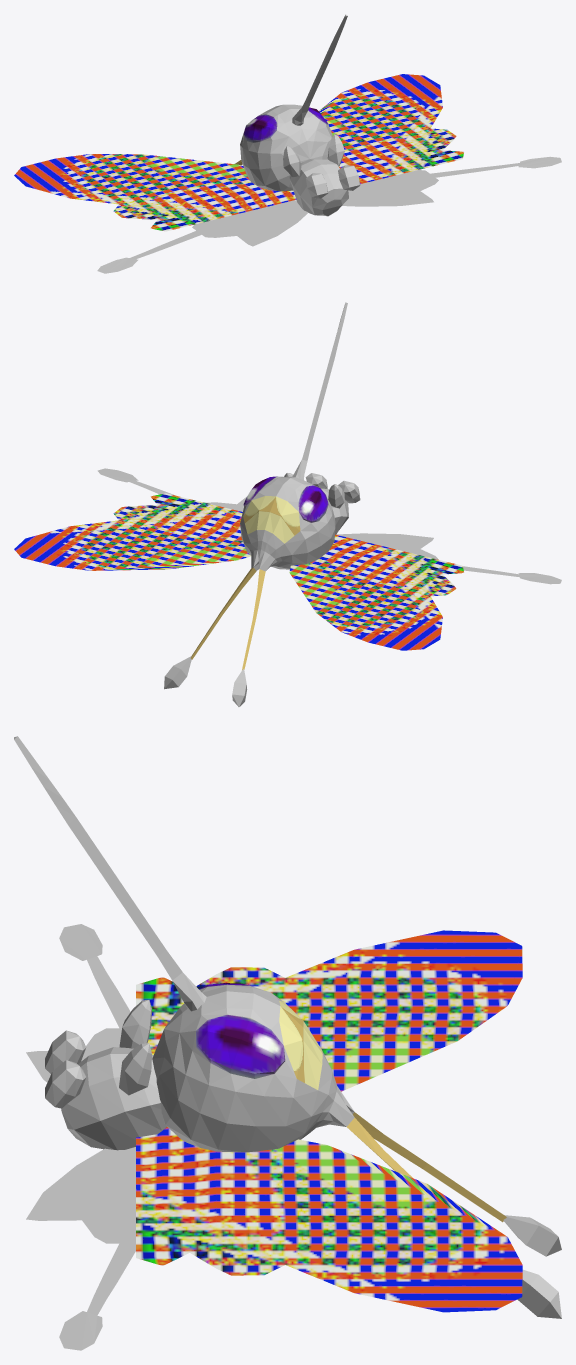
File: BR_Beautifly-Shiny01.obj
3 views of the same model, one above another, from view 1: azimuth 30°, elevation 25°; view 2: azimuth 150°, elevation 25°; view 3: azimuth 270°, elevation 25° (orthographic). The views are drawn at different scales.
Parts seen in each view (by area): view 1: agehunt; view 2: agehunt; view 3: agehunt.
Part boxes in pixels (x1,y1,x2,y2): agehunt: (14,14,561,273); agehunt: (14,302,561,706); agehunt: (14,736,561,1350).
Bounding box in the file's own units: 18.86 × 11.29 × 10.23.
